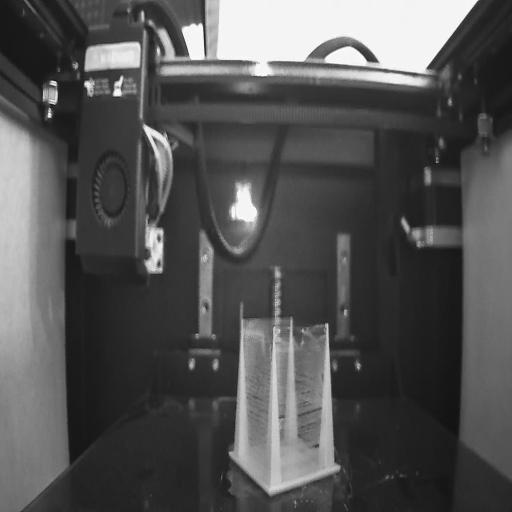stringing: (278, 312, 324, 481), (242, 317, 270, 480)
